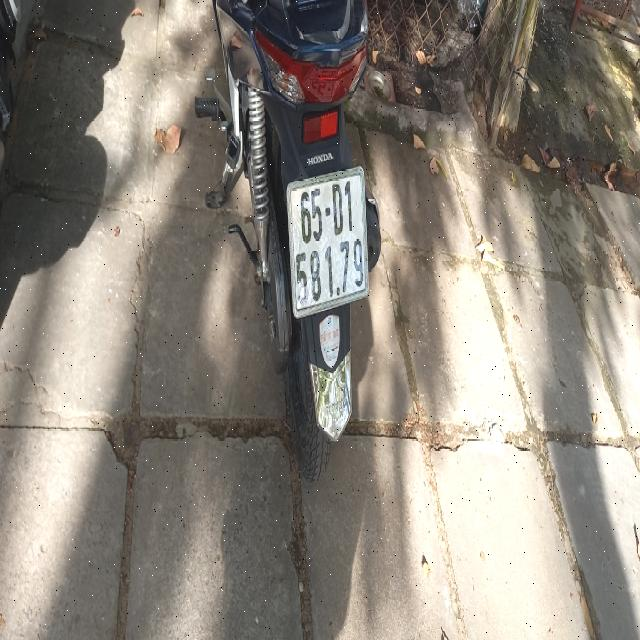1: (344, 180, 353, 230), (326, 246, 334, 298)
5: (296, 253, 308, 306), (311, 188, 322, 239)
6: (301, 192, 312, 244)
7: (340, 240, 350, 292)
8: (310, 250, 321, 300)
9: (353, 237, 363, 288)
D: (332, 184, 343, 234)
